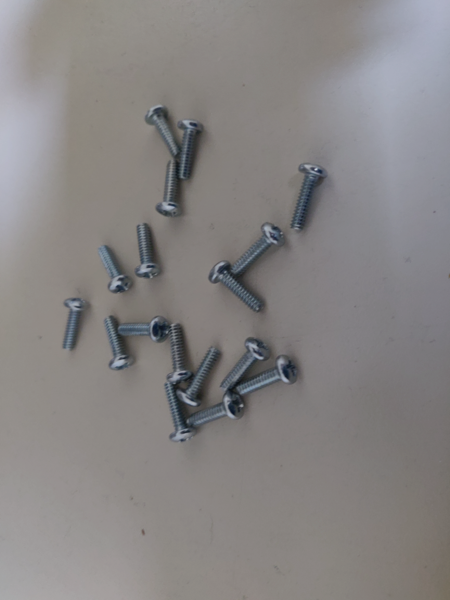shortscrew: (208, 259, 266, 313), (231, 223, 285, 275), (220, 337, 271, 392), (177, 347, 222, 407), (237, 355, 298, 398), (290, 163, 328, 231), (186, 392, 245, 427), (144, 104, 181, 158), (164, 384, 197, 444), (103, 315, 135, 371), (98, 245, 133, 294), (155, 159, 183, 218), (177, 119, 204, 180), (167, 323, 193, 384), (62, 298, 89, 352), (118, 317, 170, 344), (135, 224, 160, 279)
